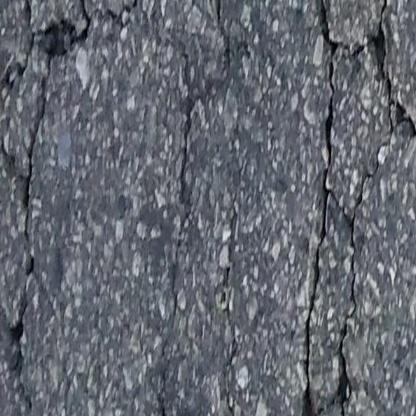Cracks: (0, 0, 97, 273), (172, 0, 244, 303), (298, 85, 363, 416), (311, 0, 416, 166), (105, 0, 183, 34), (220, 207, 241, 330), (349, 170, 386, 232), (11, 300, 32, 372), (225, 385, 262, 416), (155, 384, 178, 416)
